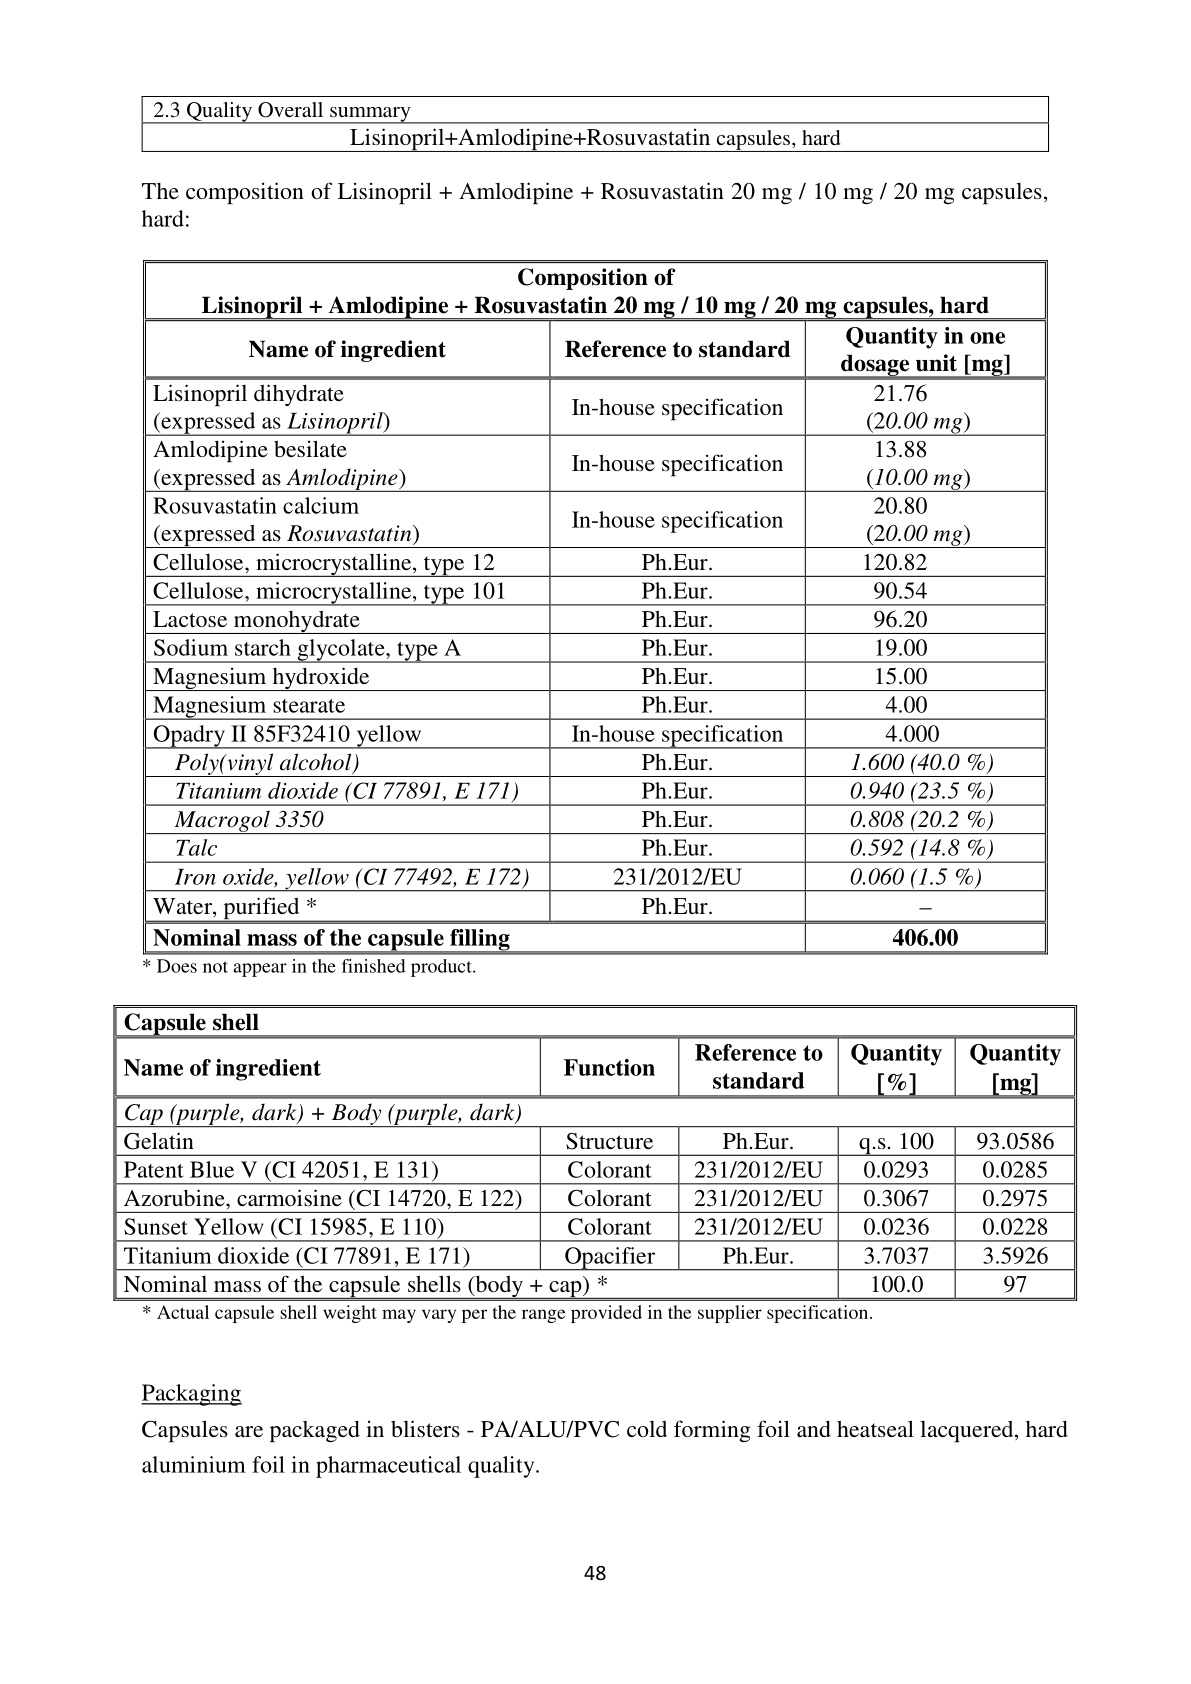full_lined: (140, 95, 1051, 153)
merged_cells: (142, 259, 1049, 956), (112, 1004, 1078, 1303)
